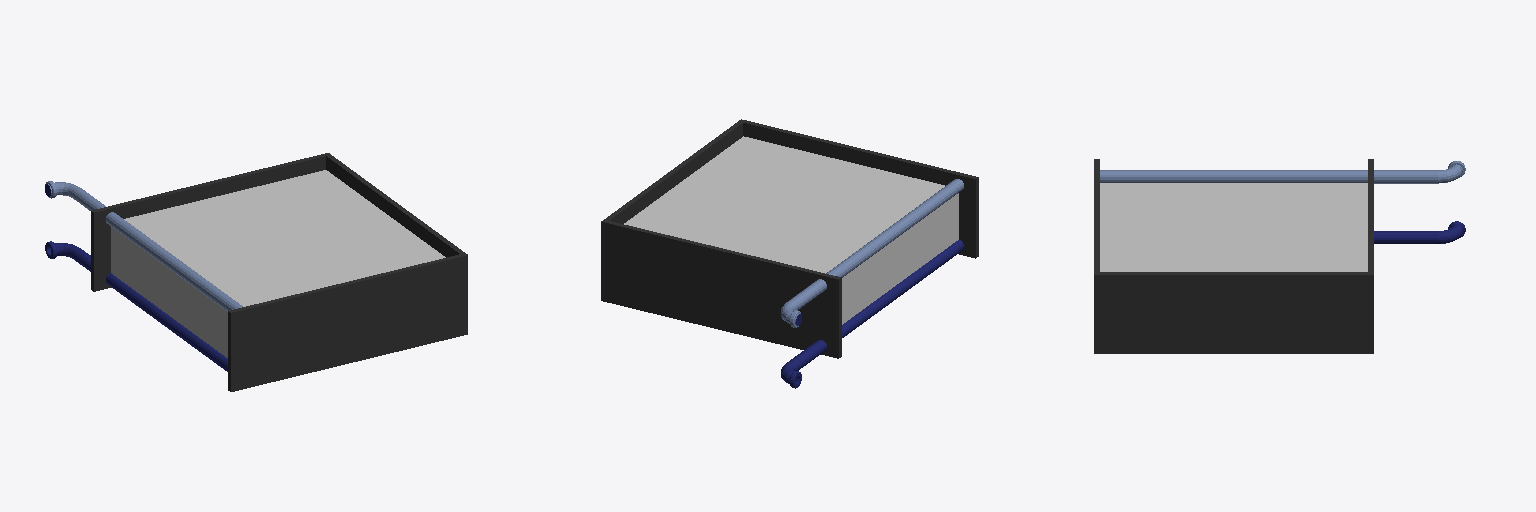
File: rooftop_cleaned_condensed.obj
3 renders of one model, left to right at view 1: azimuth 30°, elevation 25°; view 2: azimuth 150°, elevation 25°; view 3: azimuth 270°, elevation 25°, orthographic.
Visible parts, largest first — view 1: CoolingCoil_CoolingCoilGeom; view 2: CoolingCoil_CoolingCoilGeom; view 3: CoolingCoil_CoolingCoilGeom.
Boxes of the visible parts, x1=… form: CoolingCoil_CoolingCoilGeom: x1=45, y1=153, x2=467, y2=391; CoolingCoil_CoolingCoilGeom: x1=601, y1=119, x2=978, y2=388; CoolingCoil_CoolingCoilGeom: x1=1094, y1=159, x2=1465, y2=353.
Size of the model in its own units: 1.73 by 0.5496 by 2.33.